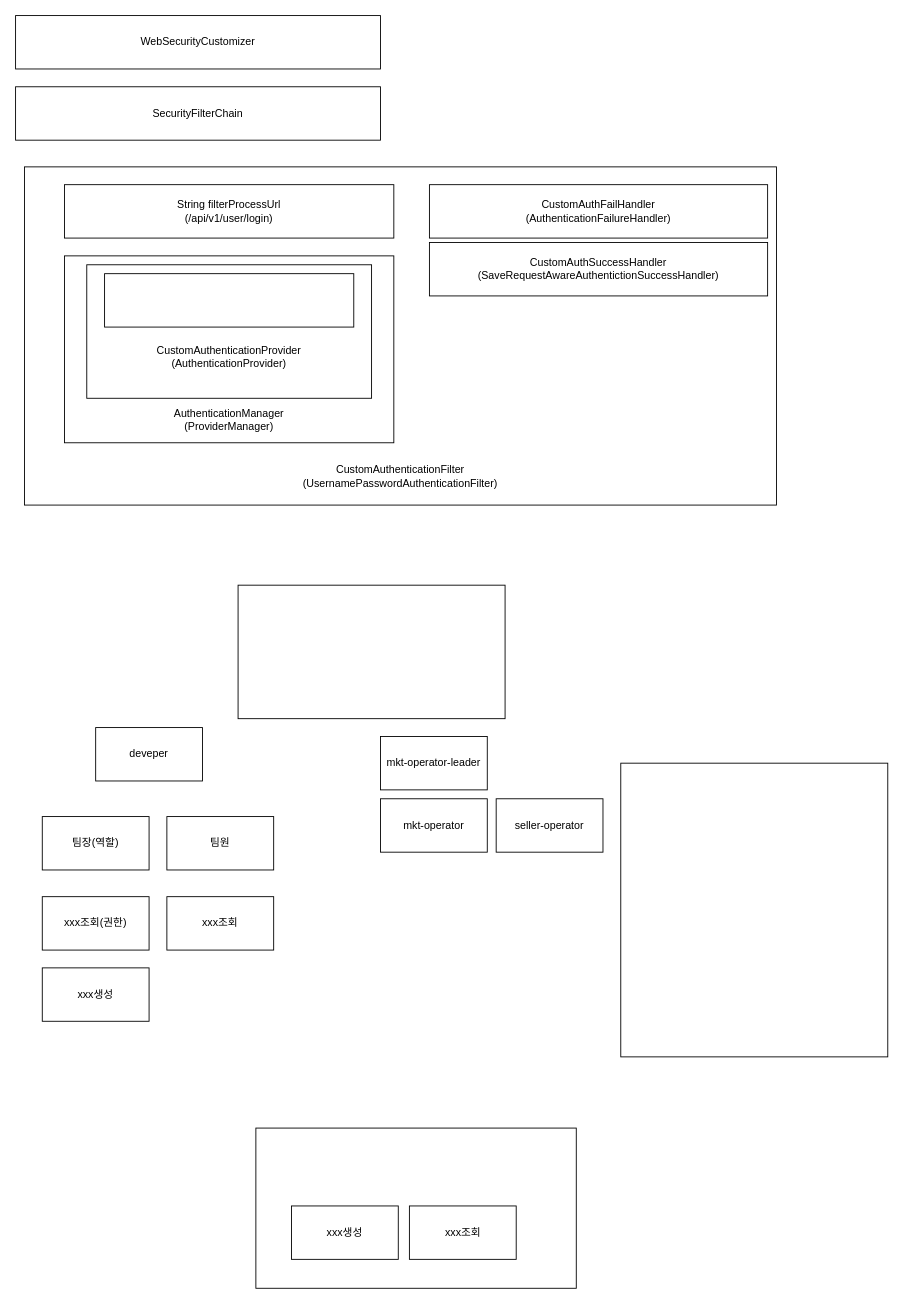
Image size: 903x1304. Some labels were removed from this diagram. The centre of each missing label's shape, as x and y in pixels:
"BCryptPasswordEncoder (PasswordEncoder)" goes at [229,300].
"operator" goes at [754,909].
